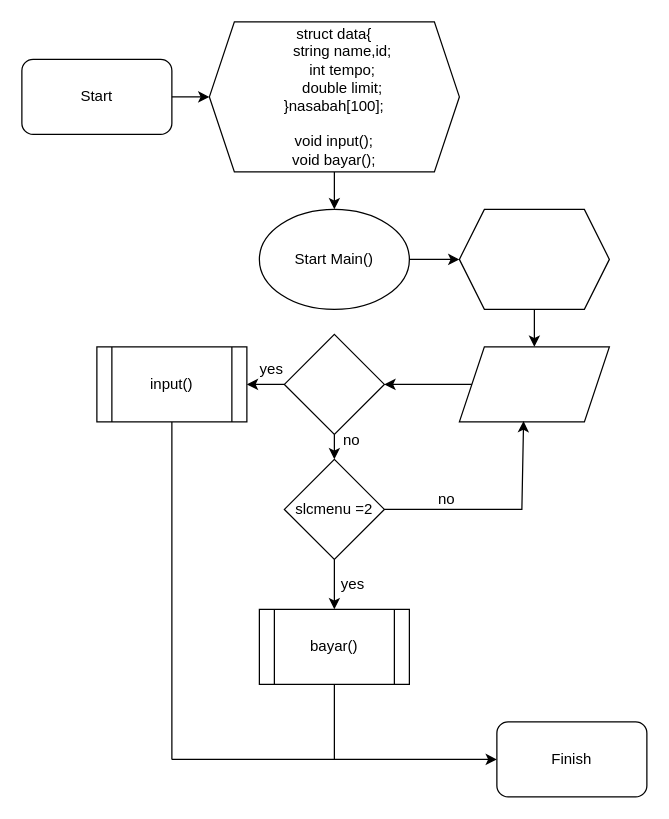
This 669x819 diagram has some shape labels left out. The shapes that lost their labels are listed below. From the top down, each one's centre as x and y in pixels, then its label:
(x=533, y=258): slcmenu:char
(x=333, y=383): slcmenu =1
(x=533, y=384): input slcmenu
